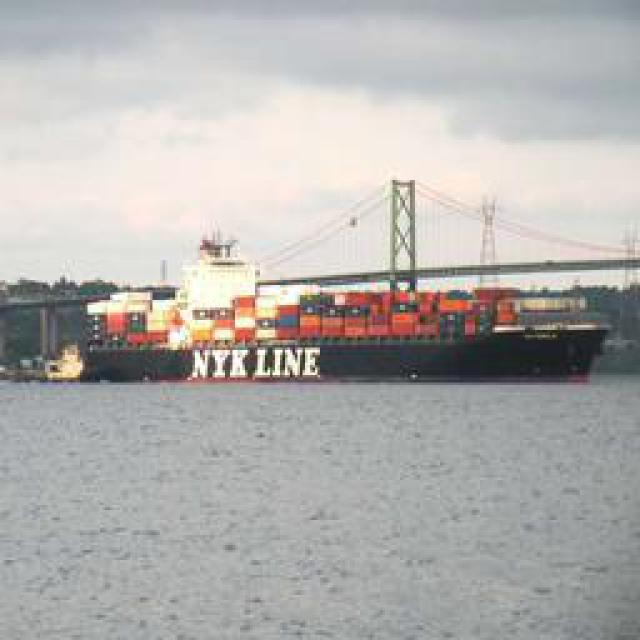Ship: (82, 280, 605, 383)
